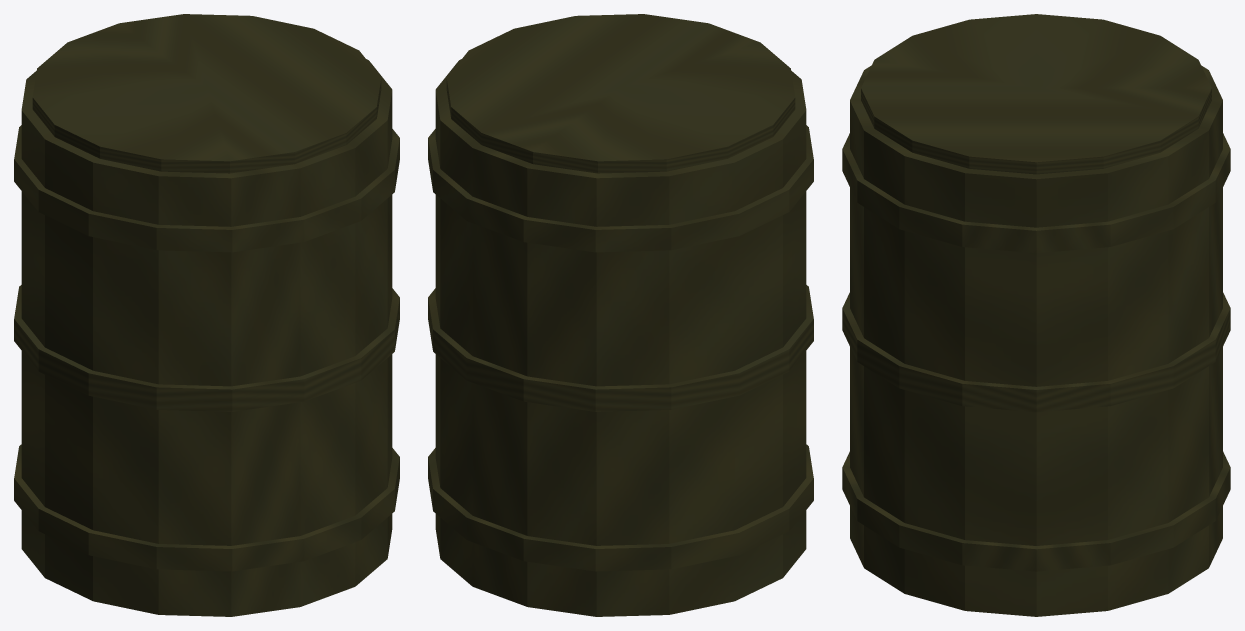
Rendered from prop_fuel_drum_metal_a.glb.
3 renders of one model, left to right at view 1: azimuth 30°, elevation 25°; view 2: azimuth 150°, elevation 25°; view 3: azimuth 270°, elevation 25°, orthographic.
Parts seen in each view (by area): view 1: prop_fuel_drum_metal_a; view 2: prop_fuel_drum_metal_a; view 3: prop_fuel_drum_metal_a.
Boxes of the visible parts, box(x1,y1,x2,y2) form: prop_fuel_drum_metal_a: box(14, 14, 399, 616); prop_fuel_drum_metal_a: box(428, 14, 813, 616); prop_fuel_drum_metal_a: box(842, 14, 1230, 616).
Bounding box in the file's own units: 0.7072 × 0.9045 × 0.7072.
Materials: 1 (1 with a texture image).
